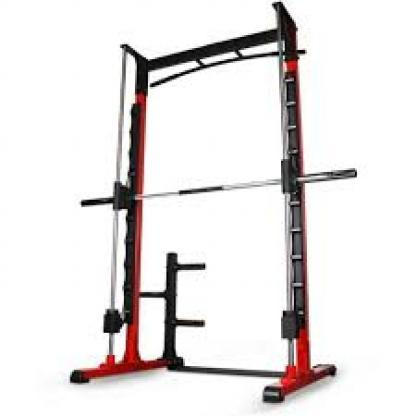smith machine: (78, 3, 357, 404)
